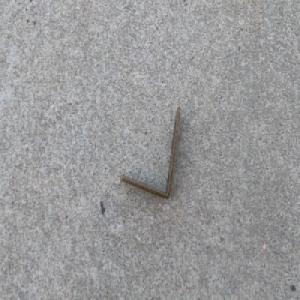MetalPart: (119, 104, 182, 200)
